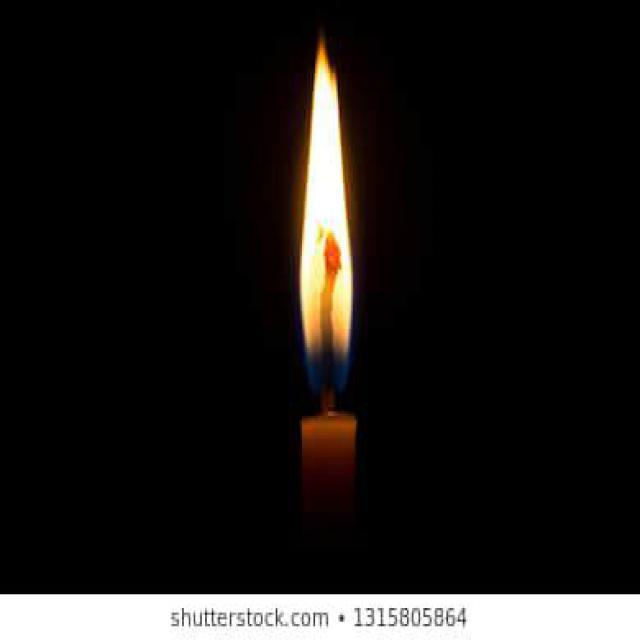Fire: (298, 45, 352, 392)
